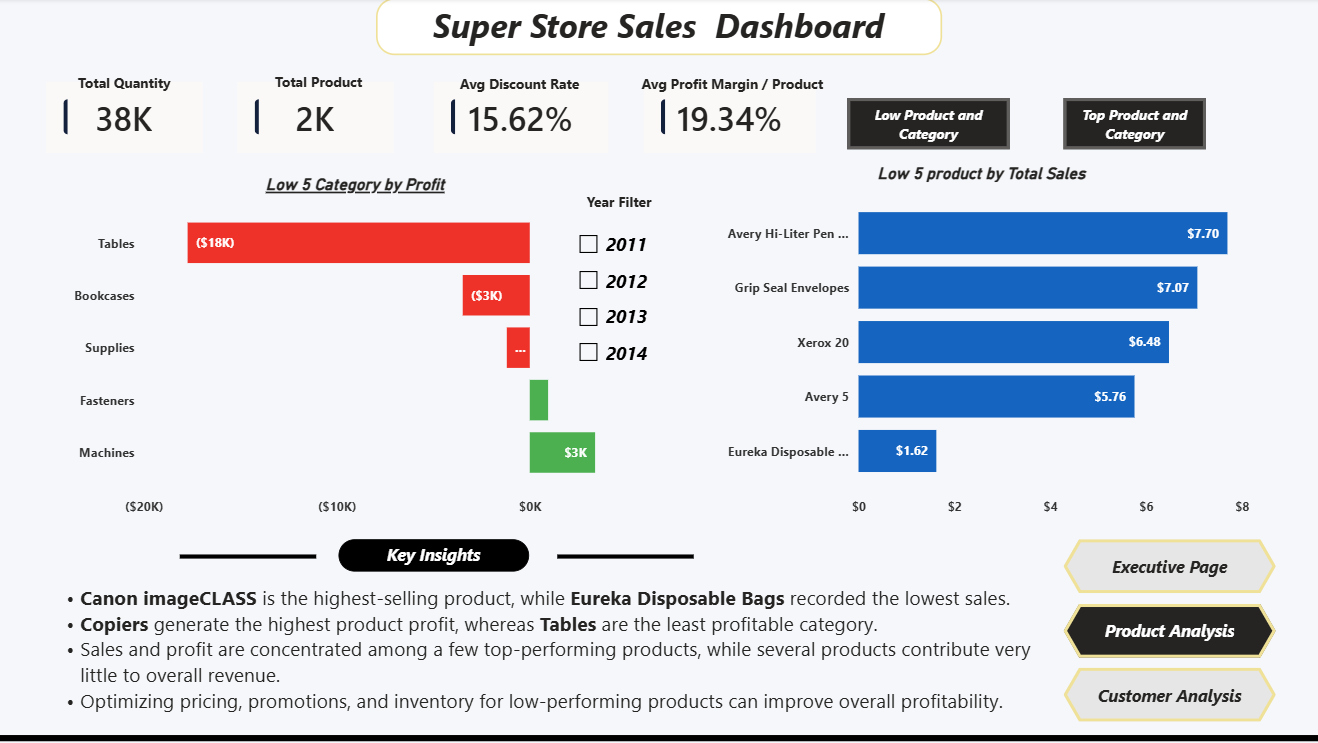

This screenshot's page, from the dashboard's own definition file:
{"tool":"powerbi","page":{"name":"Product Analysis","canvas":[1280,720],"ordinal":1},"visuals":[{"type":"textbox","box":[366.9,0,546.1,54.9],"z":0},{"type":"clusteredBarChart","title":"Low 5 product by Total Sales","fields":{"Category":["Orders.Product Name"],"Y":["Measures (2).Total Sales"]},"box":[687.5,159.2,526.9,349.9],"z":2000},{"type":"barChart","title":"Low 5 Category by Profit","fields":{"Category":["Orders.Sub-Category"],"Y":["Measures (2).Total Profit"]},"box":[68.6,170.2,555.7,338.9],"z":4000},{"type":"actionButton","title":"top_performer","box":[1030.3,96.5,137.5,49.5],"z":5000},{"type":"actionButton","title":"low_performer","box":[821.6,96.5,156.8,49.5],"z":6000},{"type":"slicer","fields":{"Values":["Date Table.YearNumber"]},"box":[550.1,214.7,114.6,172.5],"z":7000},{"type":"cardVisual","fields":{"Data":["Measures (2).Total Quantity"]},"box":[48,81,150.9,68.6],"z":8000},{"type":"textbox","box":[63.1,67.2,122.1,28.8],"z":9000},{"type":"cardVisual","fields":{"Data":["Measures (2).Total product"]},"box":[233.3,81,150.9,68.6],"z":10000},{"type":"cardVisual","fields":{"Data":["Measures (2).Average Discount Rate"]},"box":[422.6,81,168.8,68.6],"z":11000},{"type":"cardVisual","fields":{"Data":["Measures (2).Avg Profit margin per product"]},"box":[624.4,81,166,68.6],"z":12000},{"type":"textbox","box":[255.8,66.4,111,27.7],"z":13000},{"type":"textbox","box":[422.6,68.6,166,30.2],"z":14000},{"type":"textbox","box":[608,68.8,205.1,29],"z":15000},{"type":"textbox","box":[48,561.2,982.5,153.7],"z":16000},{"type":"textbox","box":[330.7,522.8,183.9,31.6],"z":17000},{"type":"shape","box":[542,531,131.7,16.5],"z":18000},{"type":"shape","box":[177,531,131.7,16.5],"z":19000},{"type":"pageNavigator","box":[1030.5,522.8,205.8,177],"z":20000},{"type":"shape","box":[0,708.1,1280.3,12.3],"z":21000},{"type":"textbox","box":[529.6,182.2,143.6,39.8],"z":22000}]}

Visuals, with their boxes in screenshot pixels (x1, y1, x2, y2), scaled from the page's 1280x720 canvas onto the 1318x743 screenshot:
textbox: crop(378, 0, 940, 57)
"Low 5 product by Total Sales" clusteredBarChart: crop(708, 164, 1250, 525)
"Low 5 Category by Profit" barChart: crop(71, 176, 643, 525)
"top_performer" actionButton: crop(1061, 100, 1202, 151)
"low_performer" actionButton: crop(846, 100, 1007, 151)
slicer - Date Table.YearNumber: crop(566, 222, 684, 400)
cardVisual - Measures (2).Total Quantity: crop(49, 84, 205, 154)
textbox: crop(65, 69, 191, 99)
cardVisual - Measures (2).Total product: crop(240, 84, 396, 154)
cardVisual - Measures (2).Average Discount Rate: crop(435, 84, 609, 154)
cardVisual - Measures (2).Avg Profit margin per product: crop(643, 84, 814, 154)
textbox: crop(263, 69, 378, 97)
textbox: crop(435, 71, 606, 102)
textbox: crop(626, 71, 837, 101)
textbox: crop(49, 579, 1061, 738)
textbox: crop(341, 540, 530, 572)
shape: crop(558, 548, 694, 565)
shape: crop(182, 548, 318, 565)
pageNavigator: crop(1061, 540, 1273, 722)
shape: crop(0, 731, 1317, 742)
textbox: crop(545, 188, 693, 229)
